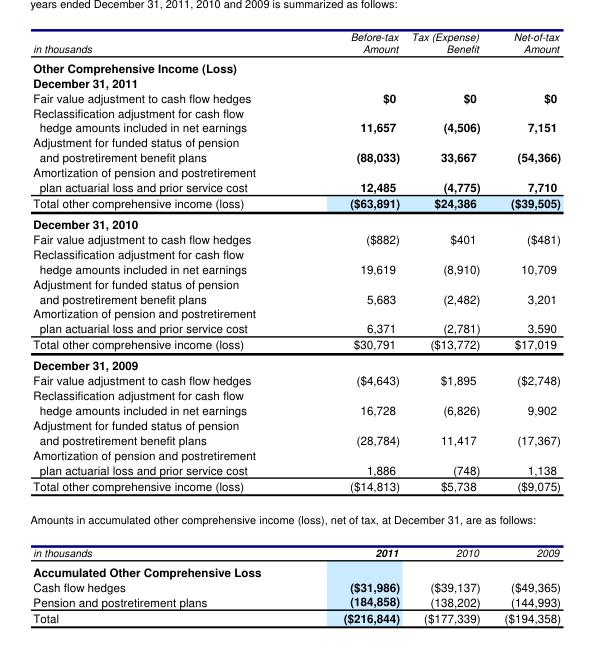table: (29, 28, 560, 625)
table column: (29, 28, 298, 625), (298, 28, 404, 625), (404, 28, 491, 625), (491, 28, 560, 625)
table column header: (29, 28, 560, 57)
table projected row header: (29, 502, 560, 535), (29, 354, 560, 372), (29, 57, 560, 74), (29, 213, 560, 230), (29, 561, 560, 578), (29, 74, 560, 89)
table row: (29, 502, 560, 535), (29, 446, 560, 477), (29, 104, 560, 134), (29, 134, 560, 164), (29, 164, 560, 194), (29, 245, 560, 275), (29, 275, 560, 305), (29, 305, 560, 335), (29, 416, 560, 446), (29, 28, 560, 57), (29, 387, 560, 416), (29, 535, 560, 561), (29, 477, 560, 502), (29, 194, 560, 213), (29, 335, 560, 354), (29, 354, 560, 372), (29, 57, 560, 74), (29, 213, 560, 230), (29, 561, 560, 578), (29, 593, 560, 609), (29, 609, 560, 625), (29, 74, 560, 89), (29, 89, 560, 104), (29, 230, 560, 245), (29, 372, 560, 387), (29, 578, 560, 593)
